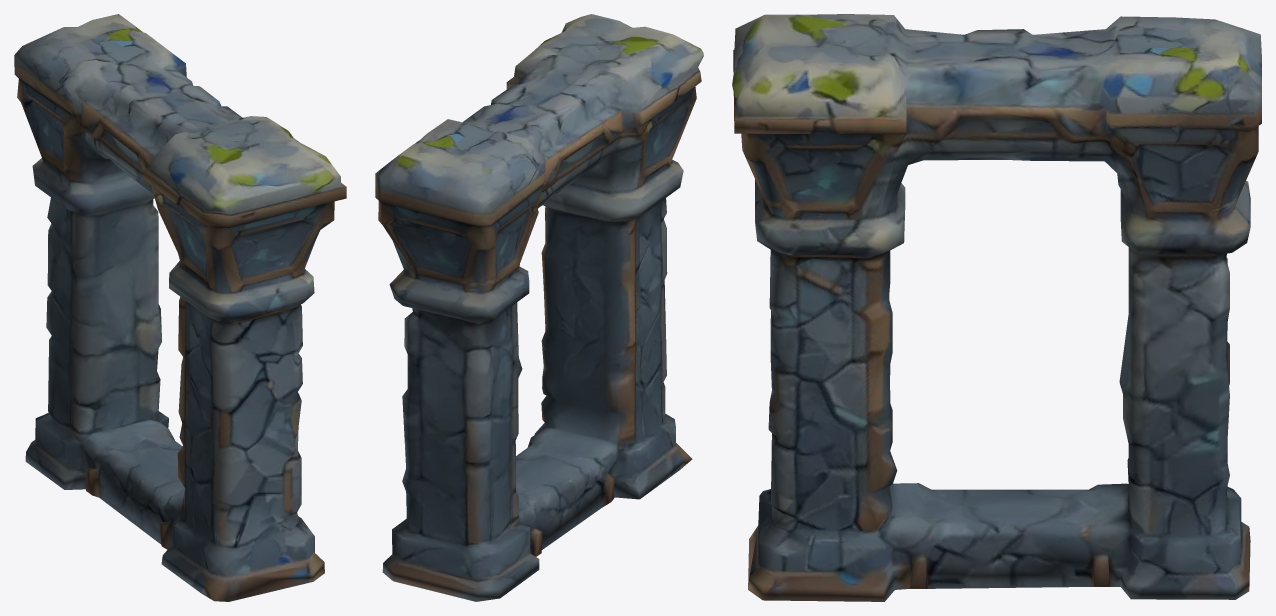
Rendered from wall.glb.
The picture shows the model from 3 angles, left to right: view 1: azimuth 30°, elevation 25°; view 2: azimuth 150°, elevation 25°; view 3: azimuth 270°, elevation 25°; orthographic projection. The views are drawn at different scales.
Visible parts, largest first — view 1: tripo_node_29b58aa1-8433-4665-bbd9-e6362b1affdd; view 2: tripo_node_29b58aa1-8433-4665-bbd9-e6362b1affdd; view 3: tripo_node_29b58aa1-8433-4665-bbd9-e6362b1affdd.
Boxes of the visible parts, <box> form: tripo_node_29b58aa1-8433-4665-bbd9-e6362b1affdd: <box>14,14,346,601</box>; tripo_node_29b58aa1-8433-4665-bbd9-e6362b1affdd: <box>375,14,703,601</box>; tripo_node_29b58aa1-8433-4665-bbd9-e6362b1affdd: <box>732,14,1261,601</box>.
Bounding box in the file's own units: 0.334 × 0.998 × 0.9082.
1 material, 1 textured.
